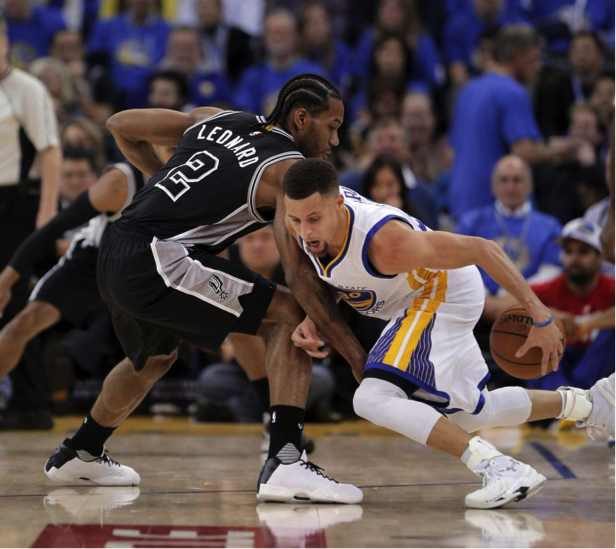ball: (487, 306, 565, 379)
player: (50, 75, 361, 508), (277, 159, 616, 514)
